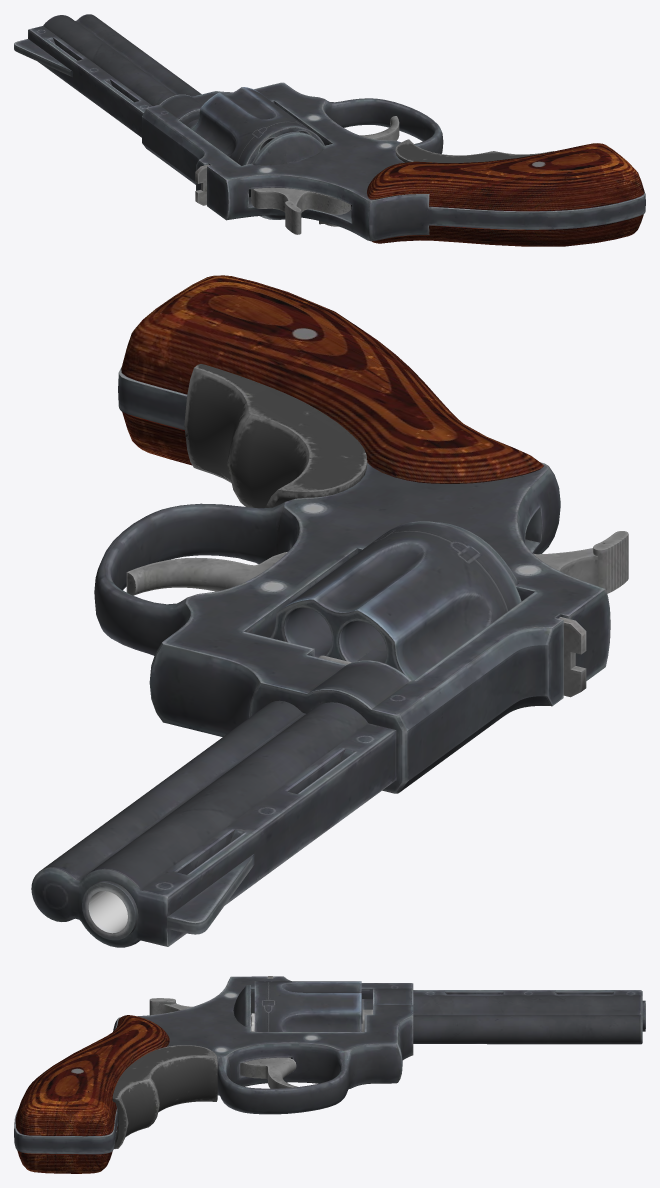
Rendered from revolver.glb.
The picture shows the model from 3 angles, top to bottom: view 1: azimuth 30°, elevation 25°; view 2: azimuth 150°, elevation 25°; view 3: azimuth 270°, elevation 25°; orthographic projection. The views are drawn at different scales.
Parts seen in each view (by area): view 1: frame, drum, hammer, trigger; view 2: frame, drum, trigger, hammer; view 3: frame, drum, trigger, hammer.
Boxes of the visible parts, <box> form: frame: <box>14,14,645,246</box>; drum: <box>191,87,324,219</box>; hammer: <box>251,187,351,234</box>; trigger: <box>360,116,399,140</box>; frame: <box>31,275,610,947</box>; drum: <box>268,521,521,680</box>; trigger: <box>126,552,287,595</box>; hammer: <box>533,531,628,593</box>; frame: <box>14,976,645,1173</box>; drum: <box>251,981,362,1031</box>; trigger: <box>240,1057,297,1088</box>; hammer: <box>149,998,251,1017</box>.
Size of the model in its own units: 0.1434 by 0.0382 by 0.2483.
Materials: 1 (1 with a texture image).
